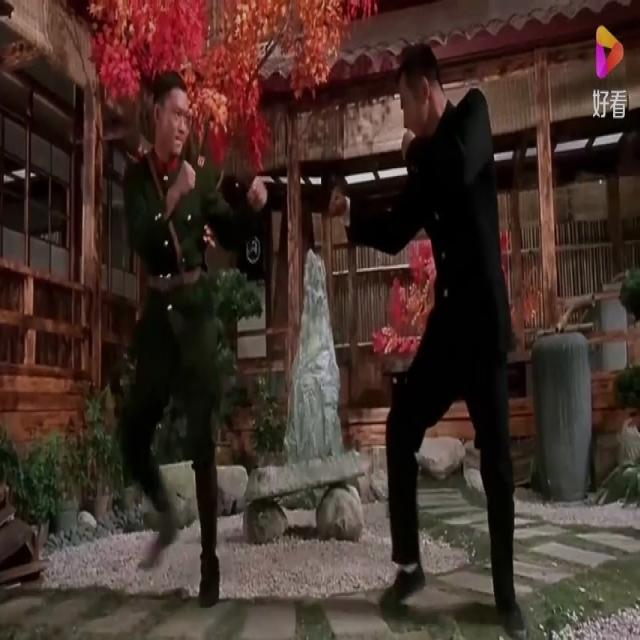fight: (115, 33, 529, 638)
